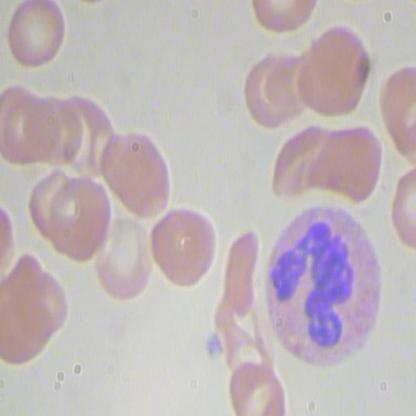Platelets: (199, 332, 226, 365)
RBC: (99, 127, 174, 223), (98, 125, 173, 221), (45, 171, 116, 260), (149, 206, 222, 286), (321, 119, 387, 205), (305, 24, 372, 105), (94, 217, 152, 302), (270, 121, 335, 196), (239, 51, 299, 127), (5, 1, 67, 71), (29, 91, 84, 169), (18, 264, 72, 342), (21, 166, 75, 244), (220, 227, 263, 318), (224, 357, 289, 415)
WBC: (259, 198, 384, 374)
